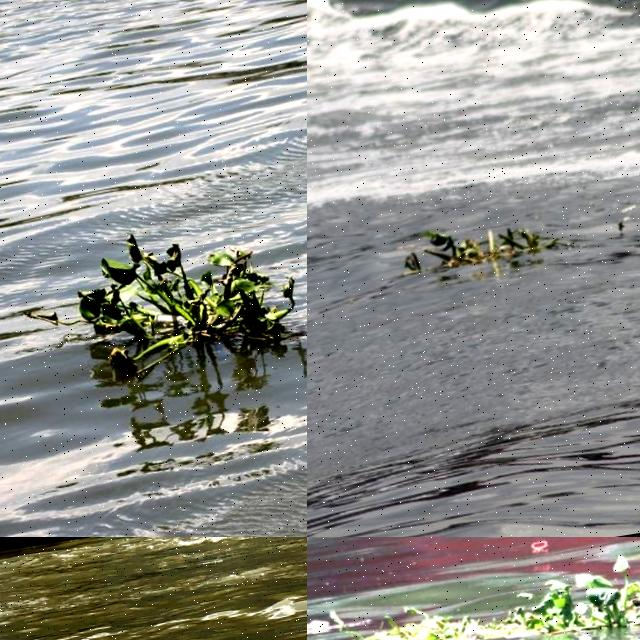water-hyacinth: (59, 219, 308, 383), (321, 550, 640, 640), (413, 205, 571, 286)
